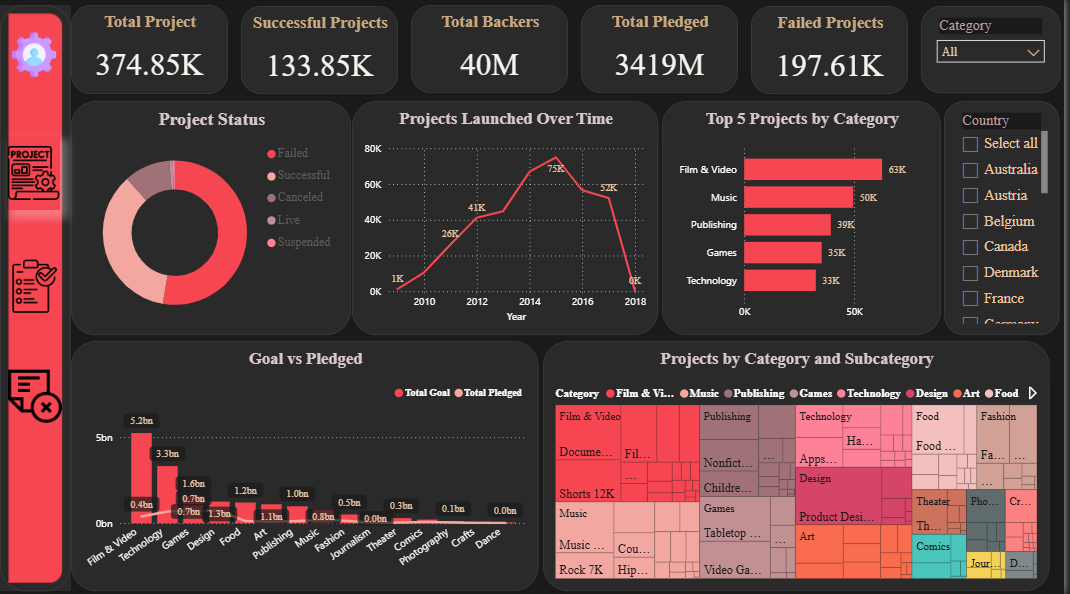

What the dashboard file says about the page in this screenshot:
{"tool":"powerbi","page":{"name":" Executive Dashboard","canvas":[1280,720],"ordinal":1},"visuals":[{"type":"shape","box":[0,9.6,85.3,706.1],"z":0,"group":"g1"},{"type":"card","title":"Total Project","fields":{"Values":["Measure.Total Project"]},"box":[85.3,9.6,188.6,107.4],"z":0},{"type":"card","title":"Successful Projects","fields":{"Values":["Measure.Successful Projects"]},"box":[289.8,11,189,106.4],"z":1000},{"type":"image","box":[9.6,440.4,64.7,79.8],"z":1000,"group":"g1"},{"type":"card","title":"Total Backers","fields":{"Values":["Measure.Total Backers"]},"box":[494.7,9.6,189,106.4],"z":2000},{"type":"image","box":[10,308.4,64.4,80.1],"z":2000,"group":"g1"},{"type":"card","title":"Total Pledged","fields":{"Values":["Measure.Total Pledged"]},"box":[699.6,9.6,189,106.4],"z":3000},{"type":"image","box":[8.6,167.8,64.4,88.7],"z":3000,"group":"g1"},{"type":"card","title":"Failed Projects","fields":{"Values":["Measure.Failed Project"]},"box":[904.4,10.5,189,106.4],"z":4000},{"type":"image","box":[10,22.8,62.9,93],"z":4000,"group":"g1"},{"type":"donutChart","title":"Project Status","fields":{"Category":["kickstarter_projects.State"],"Y":["kickstarter_projects.Projects"]},"box":[85.3,125.2,337.2,282.2],"z":5000},{"type":"clusteredBarChart","title":"Top 5 Projects by Category","fields":{"Category":["kickstarter_projects.Category"],"Y":["kickstarter_projects.Projects"]},"box":[796.9,125.2,335.8,282.2],"z":6000},{"type":"lineChart","title":"Projects Launched Over Time","fields":{"Category":["kickstarter_projects.Launched.Variation.Date Hierarchy.Year"],"Y":["kickstarter_projects.Projects"]},"box":[423.9,125.2,368.9,282.2],"z":7000},{"type":"lineClusteredColumnComboChart","title":"Goal vs Pledged","fields":{"Category":["kickstarter_projects.Category"],"Y":["Measure.Total Goal"],"Y2":["Measure.Total Pledged"]},"box":[85.3,414.3,563,301.4],"z":8000},{"type":"treemap","fields":{"Details":["kickstarter_projects.Subcategory"],"Group":["kickstarter_projects.Category"],"Values":["kickstarter_projects.Projects"]},"box":[653.8,414.3,609.7,301.4],"z":9000},{"type":"slicer","fields":{"Values":["kickstarter_projects.Category"]},"box":[1109.3,11,167.9,104.6],"z":10000},{"type":"slicer","fields":{"Values":["kickstarter_projects.Country"]},"box":[1136.9,125.2,139,282.2],"z":11000},{"type":"group","id":"g1","title":"Group 1","box":[0,9.6,85.3,706.1],"z":13004}]}

Visuals, with their boxes in screenshot pixels (x1, y1, x2, y2), scaled from the page's 1280x720 canvas onto the 1070x594 screenshot:
shape: bbox=[0, 8, 71, 590]
"Total Project" card: bbox=[71, 8, 229, 97]
"Successful Projects" card: bbox=[242, 9, 400, 97]
image: bbox=[8, 363, 62, 429]
"Total Backers" card: bbox=[414, 8, 572, 96]
image: bbox=[8, 254, 62, 321]
"Total Pledged" card: bbox=[585, 8, 743, 96]
image: bbox=[7, 138, 61, 212]
"Failed Projects" card: bbox=[756, 9, 914, 96]
image: bbox=[8, 19, 61, 96]
"Project Status" donutChart: bbox=[71, 103, 353, 336]
"Top 5 Projects by Category" clusteredBarChart: bbox=[666, 103, 947, 336]
"Projects Launched Over Time" lineChart: bbox=[354, 103, 663, 336]
"Goal vs Pledged" lineClusteredColumnComboChart: bbox=[71, 342, 542, 590]
treemap - kickstarter_projects.Subcategory x kickstarter_projects.Category: bbox=[547, 342, 1056, 590]
slicer - kickstarter_projects.Category: bbox=[927, 9, 1068, 95]
slicer - kickstarter_projects.Country: bbox=[950, 103, 1067, 336]
"Group 1" group: bbox=[0, 8, 71, 590]
